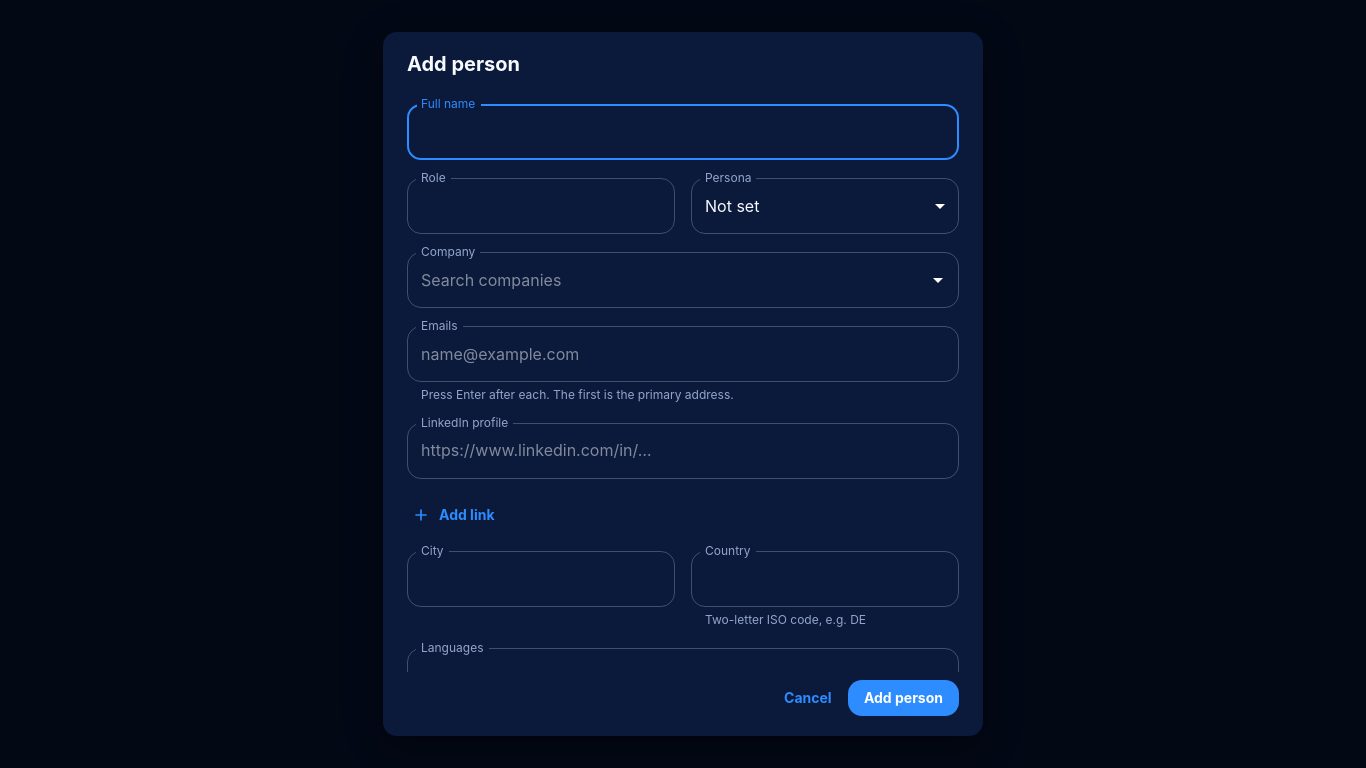
PersonFormDialog (adding) › never shows raw text for an unknown failure
Type "Marta Chen" into the field labelled "Full name" at (683, 132), box [407, 104, 959, 160]
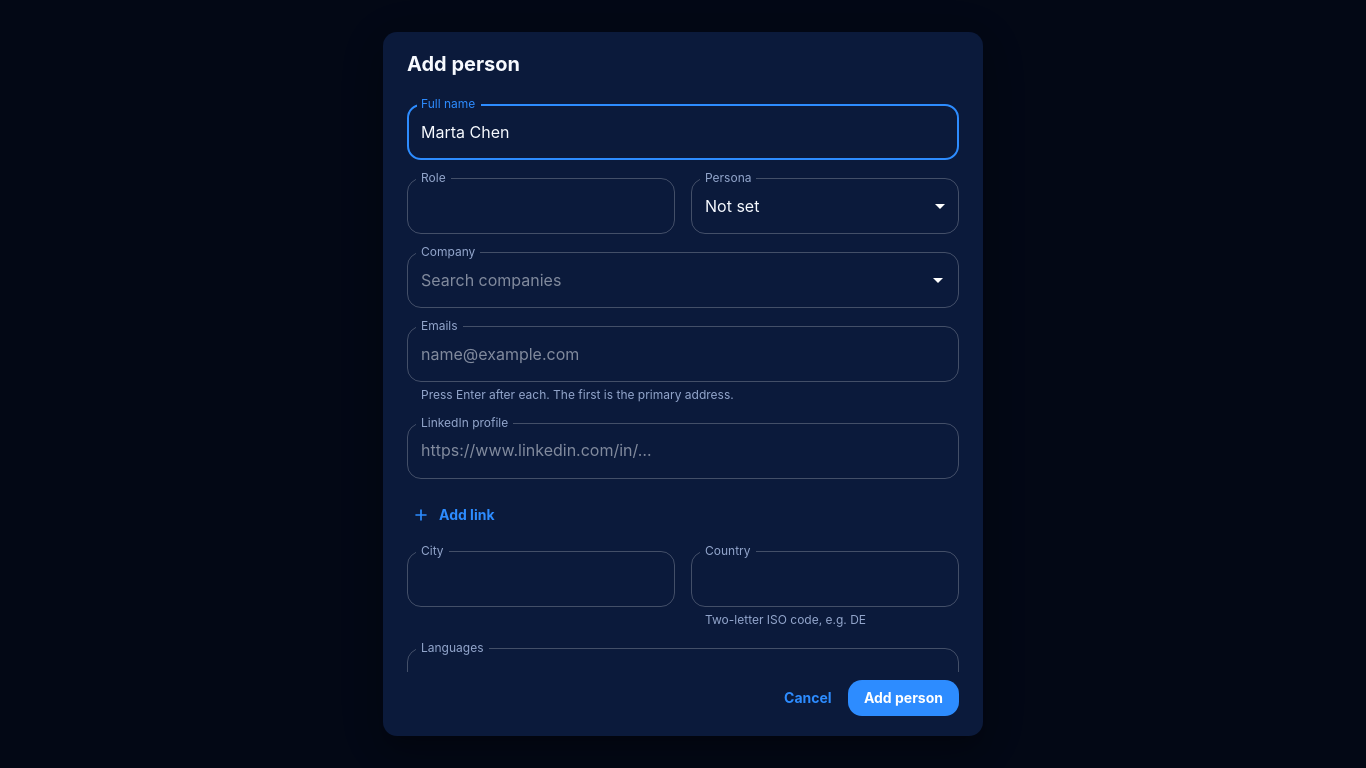
Type "marta@bluewave.io" into the dropdown labelled "Emails" at (683, 354), box [416, 335, 950, 373]
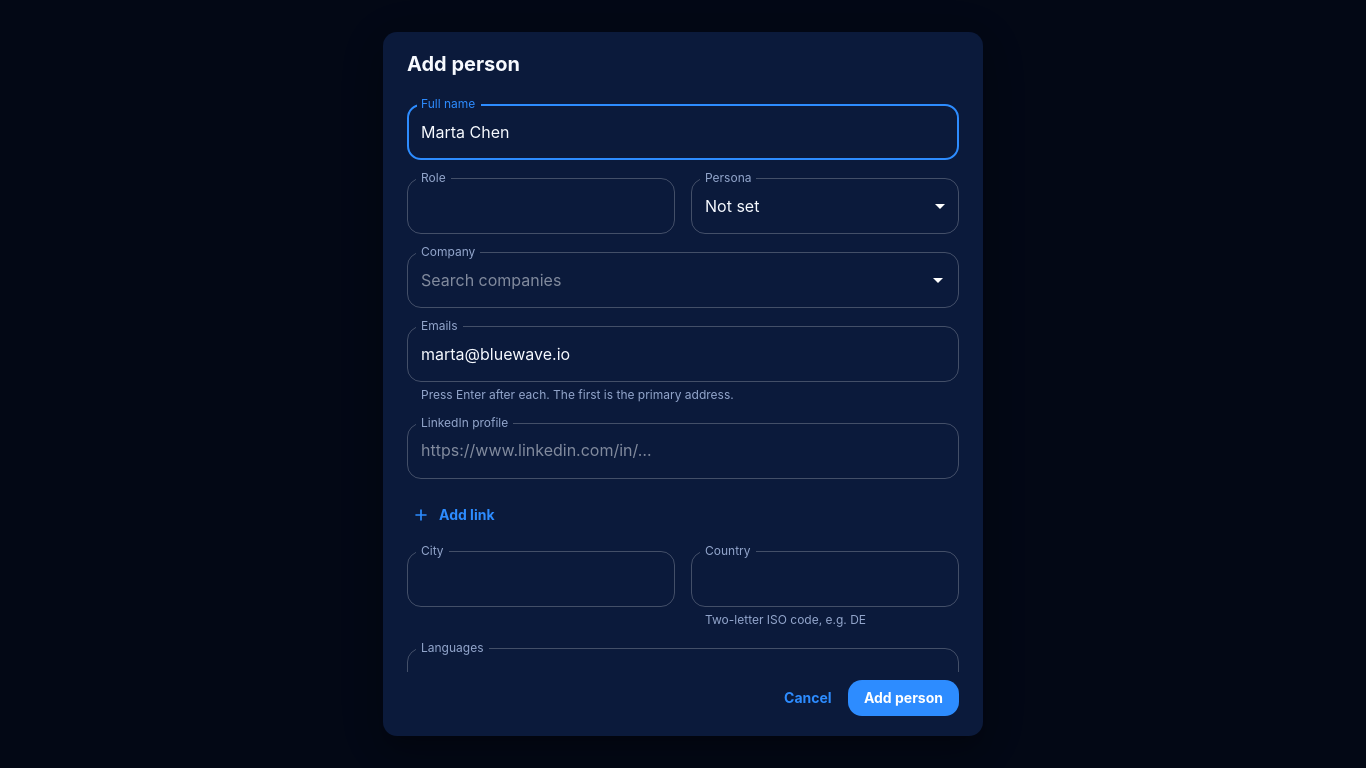
Press Enter in the dropdown labelled "Emails", box [416, 335, 920, 373]
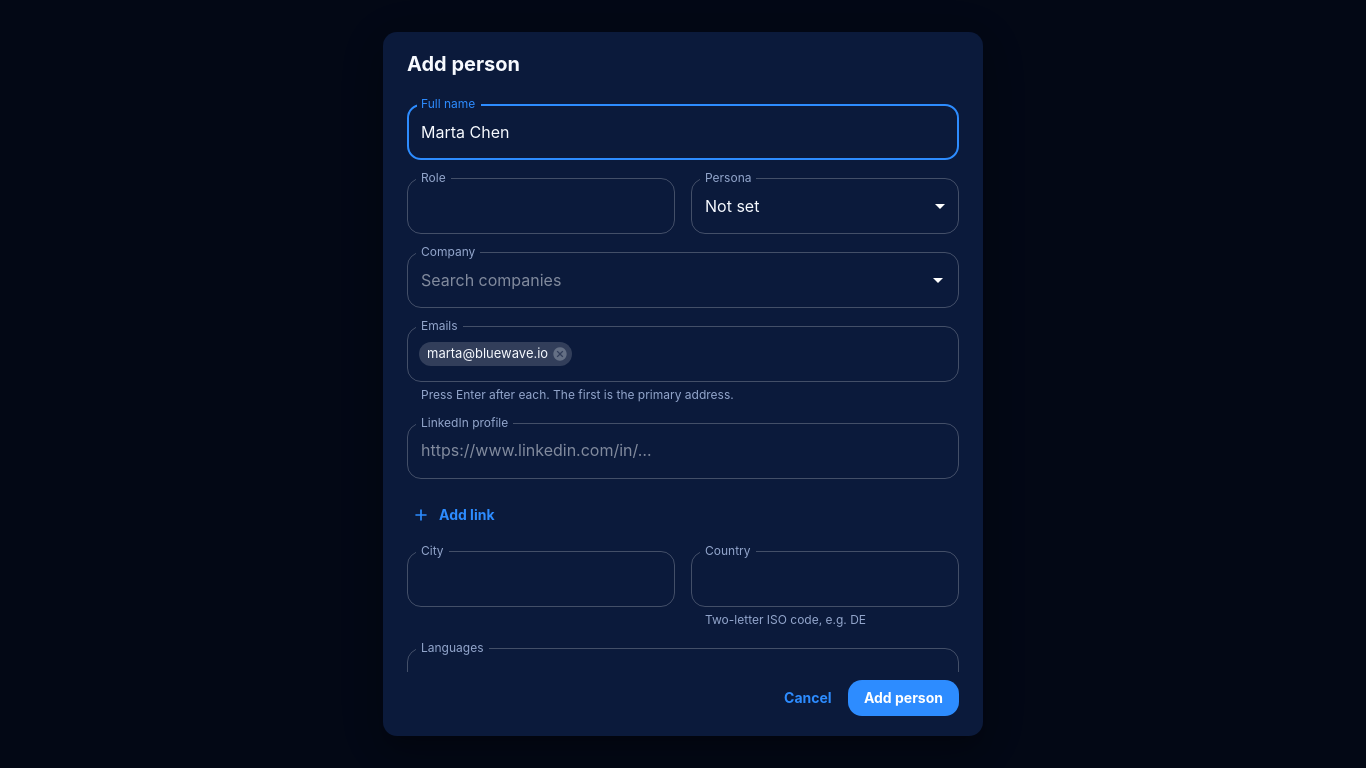
Click the button "Add person" at (903, 698), box [848, 680, 959, 716]
(page scrolled)
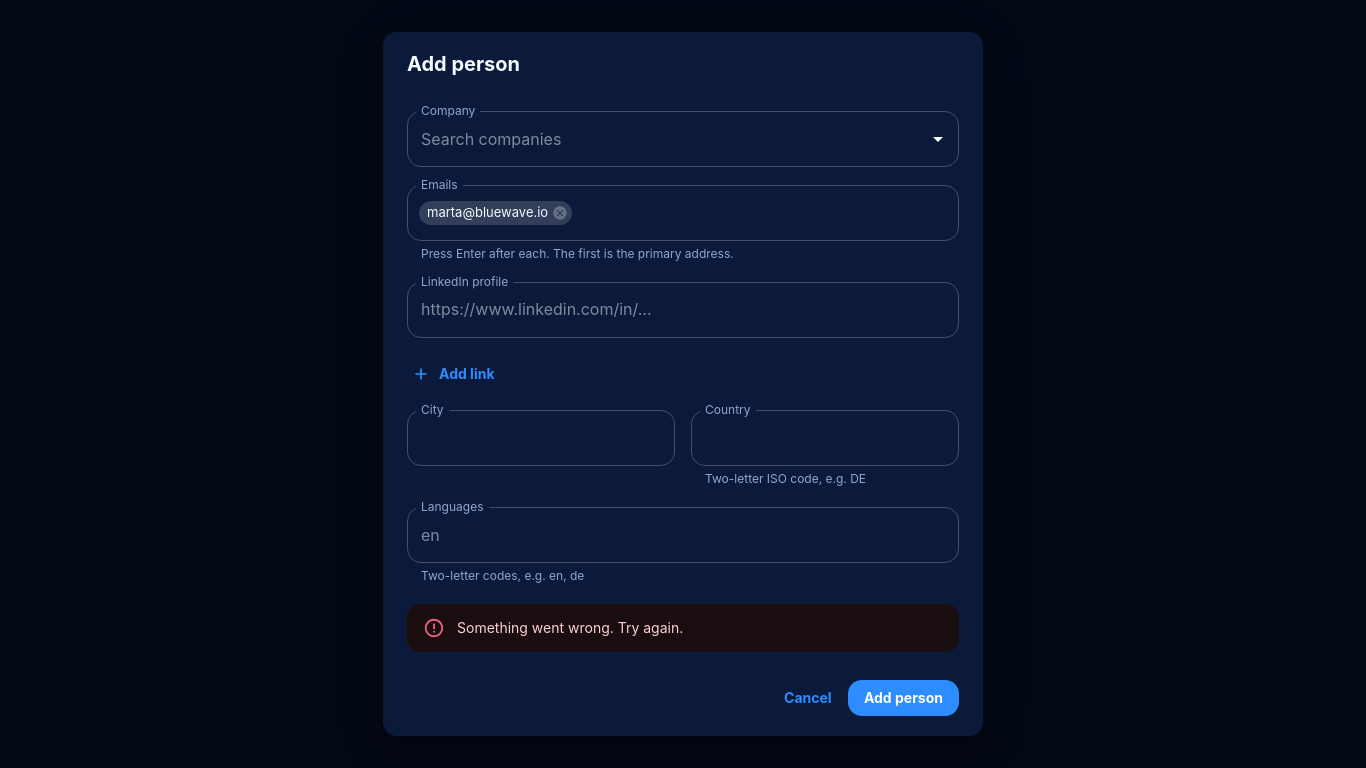
Expected: the text "Something went wrong. Try again." is shown, [457, 619, 683, 636]
